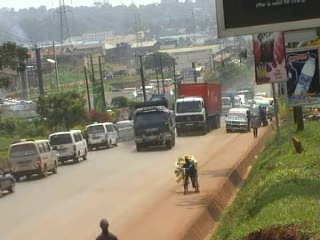Car: (0, 162, 16, 200), (111, 118, 138, 140)
